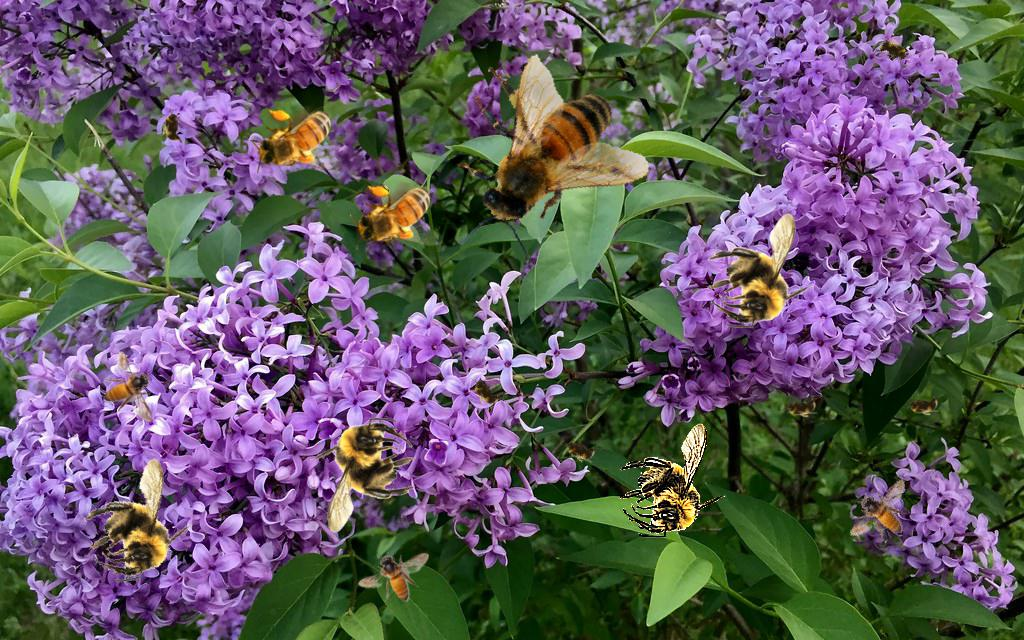Bee: (420, 35, 665, 275), (73, 453, 202, 588), (309, 418, 416, 533), (707, 213, 814, 328), (619, 423, 726, 538), (837, 477, 923, 552), (350, 182, 443, 250), (251, 106, 344, 174), (358, 552, 429, 602), (103, 351, 153, 422), (464, 369, 508, 415), (871, 31, 917, 71), (557, 431, 603, 469), (162, 107, 184, 147), (903, 394, 943, 416), (781, 396, 821, 418)
